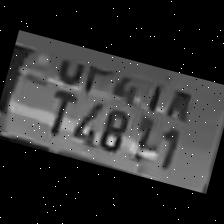1: (122, 111, 164, 164), (154, 119, 188, 172), (138, 74, 168, 114)
4: (65, 90, 107, 149), (106, 64, 150, 108)
8: (93, 99, 134, 157)
A: (159, 80, 199, 124)
P: (78, 55, 116, 97)
T: (35, 80, 80, 140)
U: (47, 48, 91, 90)
